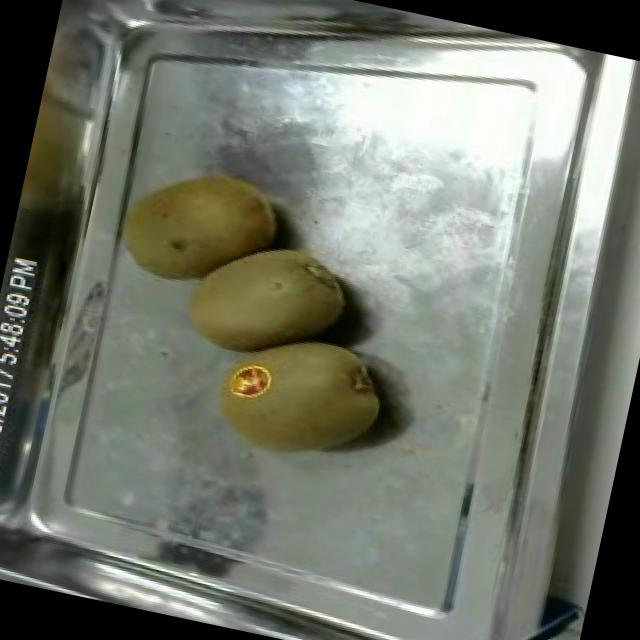Fruit: (195, 310, 398, 478), (165, 216, 363, 380), (106, 142, 298, 310)
